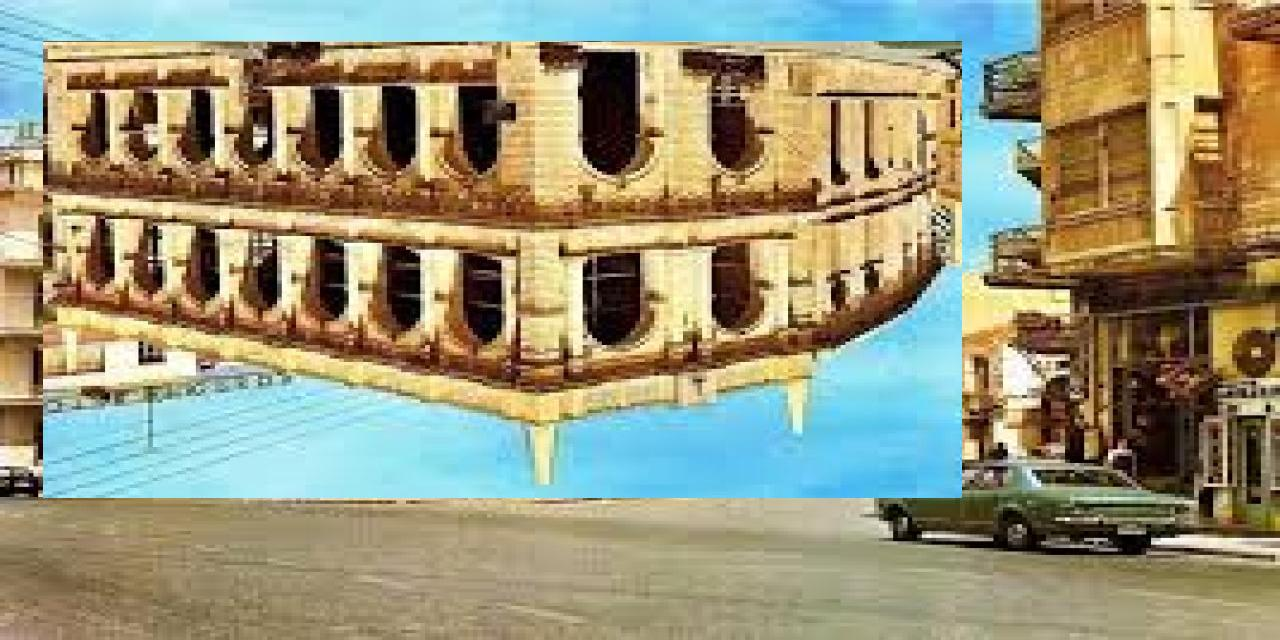Loggia: (44, 42, 963, 499)
